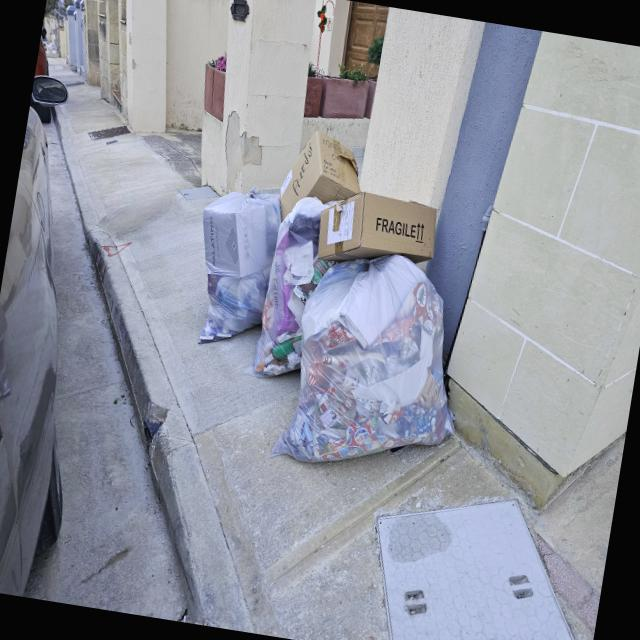grey_bag: (282, 250, 480, 484), (182, 178, 282, 352), (255, 197, 328, 370)
other_waste: (318, 188, 442, 276), (282, 127, 366, 205)
